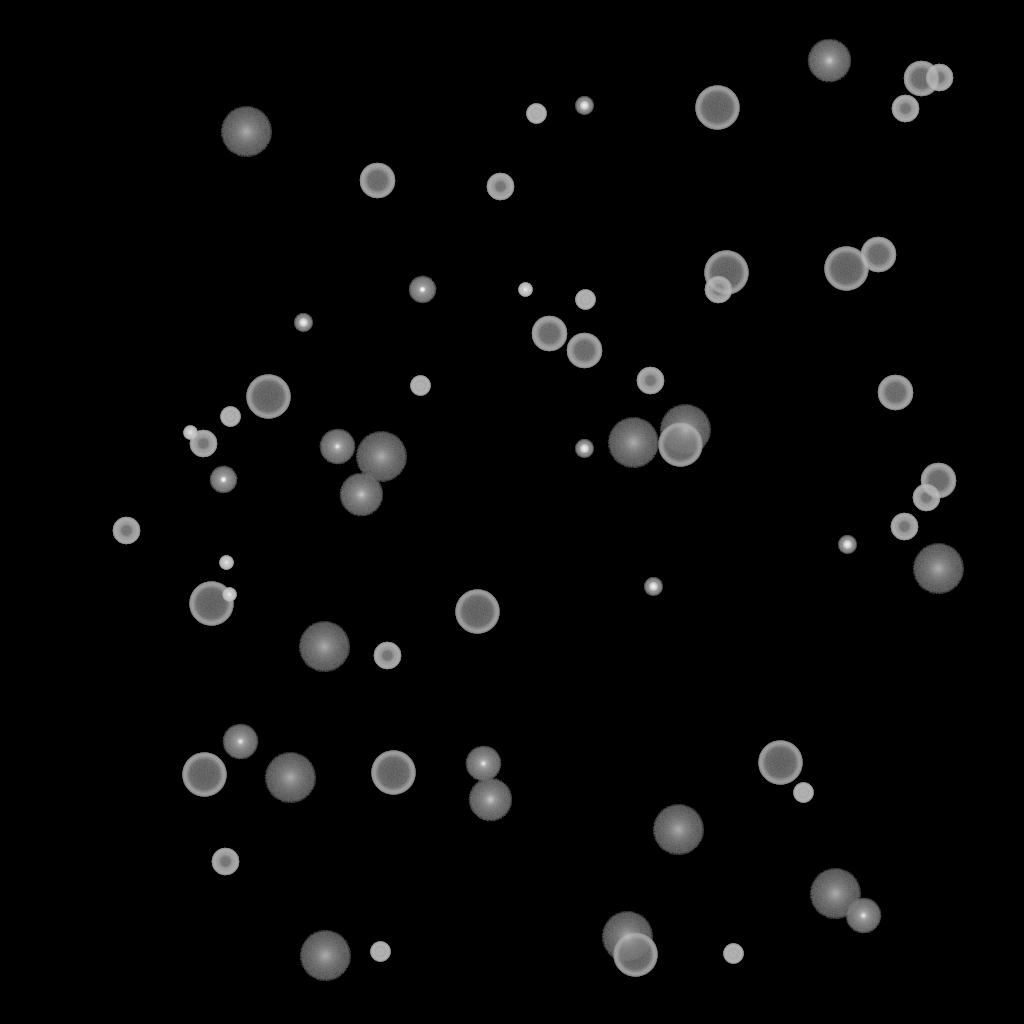depth:-10: (209, 466, 237, 494), (408, 276, 436, 304)
depth:-20: (644, 578, 662, 596), (294, 314, 312, 332), (575, 440, 593, 458), (575, 97, 593, 115), (838, 536, 856, 554)
depth:-30: (222, 588, 236, 602), (183, 426, 197, 440), (219, 556, 233, 570), (518, 283, 532, 297)
depth:-40: (575, 290, 595, 310), (370, 942, 390, 962), (793, 783, 813, 803), (723, 944, 743, 964), (220, 407, 240, 427), (526, 104, 546, 124), (410, 376, 430, 396)
depth:-50: (211, 848, 239, 876), (112, 517, 140, 545), (912, 484, 940, 512), (373, 642, 401, 670), (636, 367, 664, 395), (890, 513, 918, 541), (891, 95, 919, 123), (486, 173, 514, 201), (704, 276, 732, 304), (189, 430, 217, 458), (925, 64, 953, 92)
depth:-60: (359, 163, 395, 199), (903, 61, 939, 97), (877, 375, 913, 411), (920, 463, 956, 499), (860, 237, 896, 273), (531, 316, 567, 352), (566, 333, 602, 369)
depth:-70: (658, 423, 702, 467), (613, 933, 657, 977), (704, 251, 748, 295), (182, 753, 226, 797), (189, 582, 233, 626), (371, 751, 415, 795), (246, 375, 290, 419), (455, 590, 499, 634), (695, 86, 739, 130), (824, 247, 868, 291), (758, 741, 802, 785)
depth:0: (465, 746, 501, 782), (845, 898, 881, 934), (222, 724, 258, 760), (319, 429, 355, 465)
depth:10: (807, 39, 851, 83), (339, 473, 383, 517), (468, 778, 512, 822)
depth:20: (220, 107, 272, 157), (298, 622, 350, 672), (299, 931, 351, 981), (659, 405, 711, 455), (652, 805, 704, 855), (912, 544, 964, 594), (264, 753, 316, 803), (355, 432, 407, 482), (809, 869, 861, 919), (601, 912, 653, 962), (607, 418, 659, 468)
